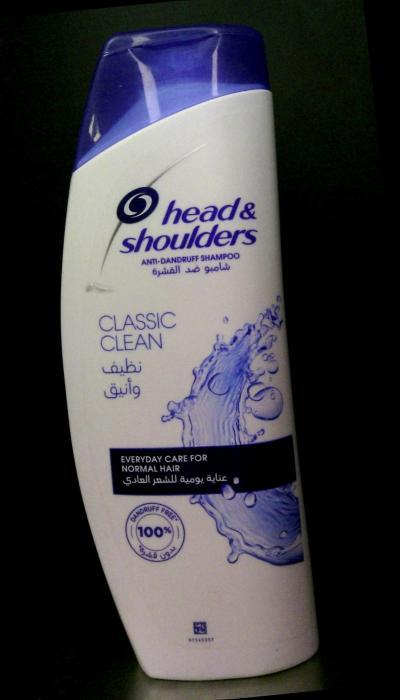tear_unacc: (72, 266, 127, 308)
